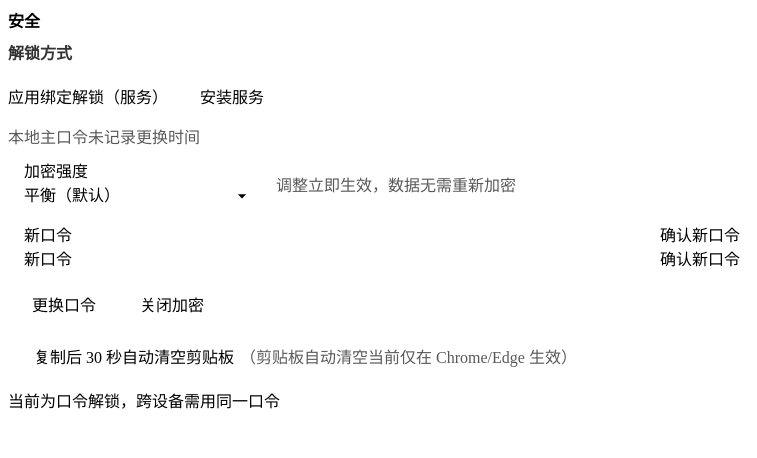
SecurityCard ABE 区块（plan p6 §0.3 三态 + R7-I2 源缺失引导态） › I4 编排：bind→wrap→addSource 完整穿层序列（含状态刷新与成功提示）
Click the button with class "abe-install" at (232, 96), box x1=176 y1=76 x2=288 y2=116
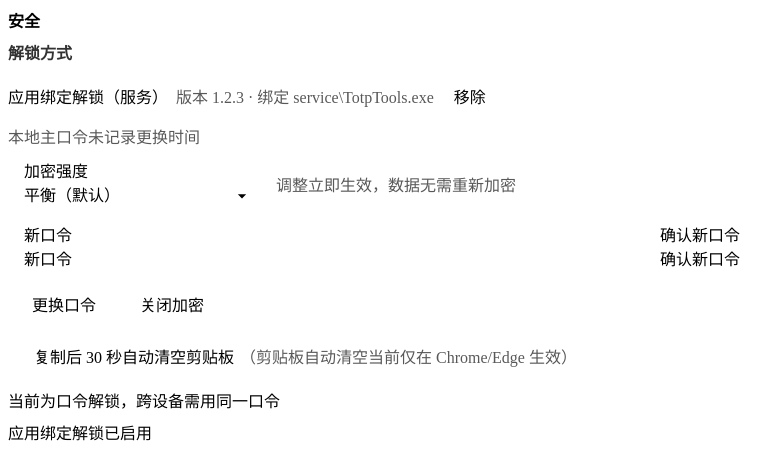
Check: the text "版本 1.2.3" is shown, box x1=176 y1=89 x2=434 y2=106
